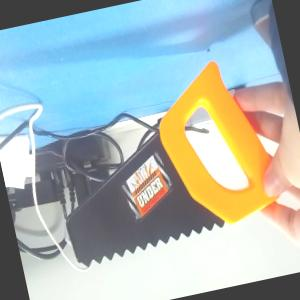serrote: (36, 54, 272, 268)
